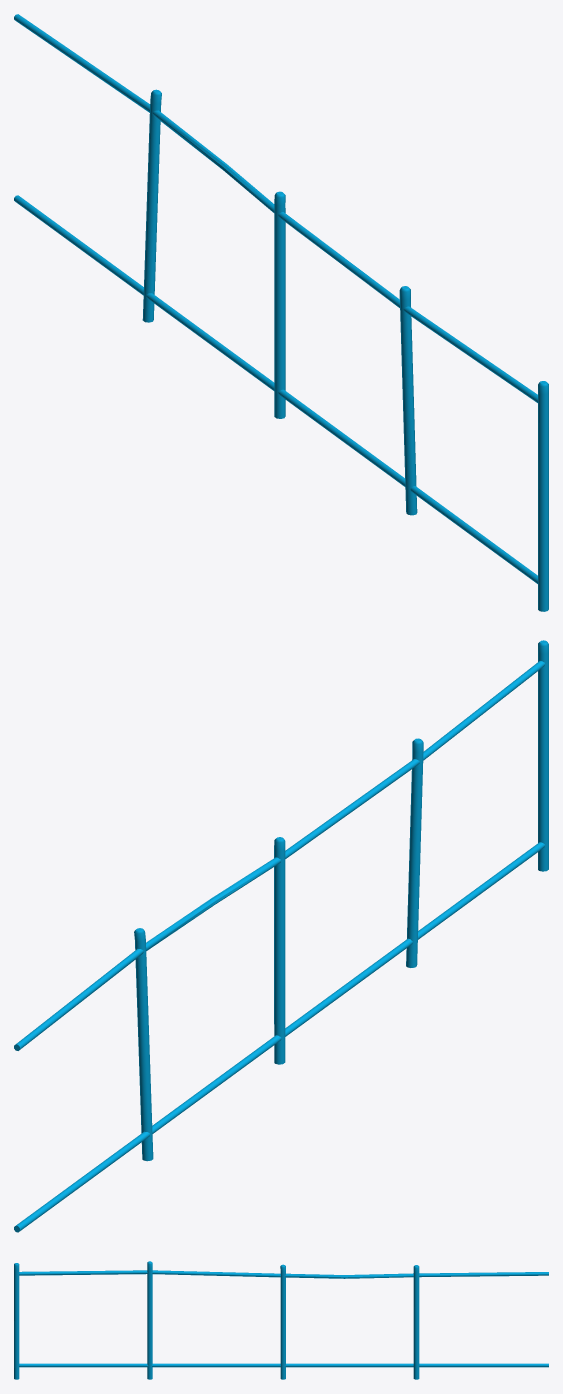
File: Garden_Fence_03_x4_Lod0.fbx
The picture shows the model from 3 angles, top to bottom: view 1: azimuth 30°, elevation 25°; view 2: azimuth 150°, elevation 25°; view 3: azimuth 270°, elevation 25°; orthographic projection. The views are drawn at different scales.
Visible parts, largest first — view 1: Garden_Fence_03_x4_Lod0; view 2: Garden_Fence_03_x4_Lod0; view 3: Garden_Fence_03_x4_Lod0.
Part boxes in pixels (x1,y1,x2,y2): Garden_Fence_03_x4_Lod0: [14, 14, 548, 611]; Garden_Fence_03_x4_Lod0: [14, 640, 548, 1232]; Garden_Fence_03_x4_Lod0: [14, 1261, 548, 1379].
Bounding box in the file's own units: 30.95 × 286 × 1204.
